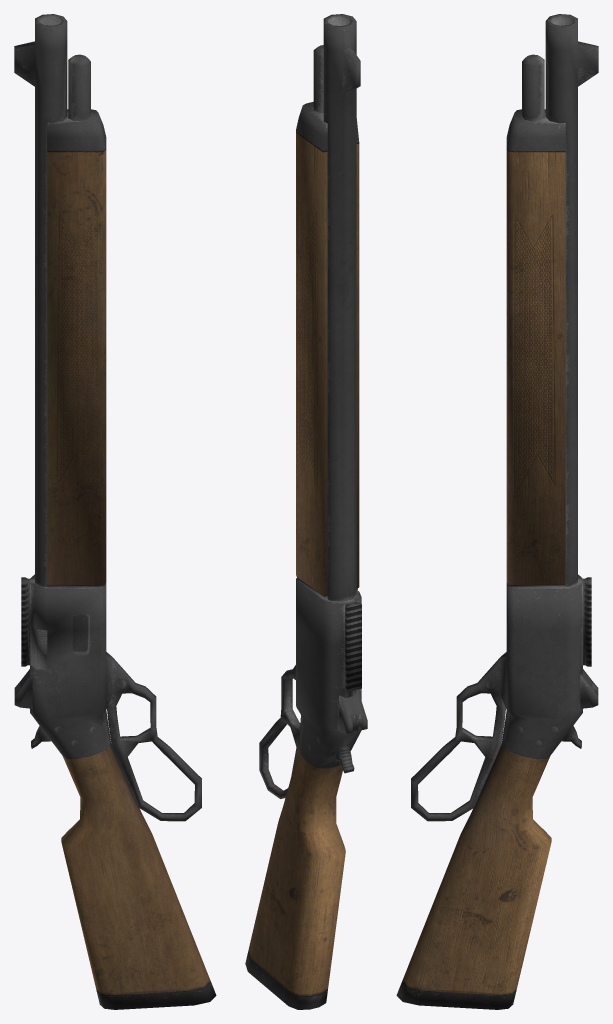
The model's file is TLOG_LeverActionRifle.fbx.
The picture shows the model from 3 angles, left to right: view 1: azimuth 90°, elevation 25°; view 2: azimuth 210°, elevation 25°; view 3: azimuth 270°, elevation 25°; orthographic projection. The views are drawn at different scales.
Visible parts, largest first — view 1: Cube; view 2: Cube; view 3: Cube.
Boxes of the visible parts, x1,y1,x2,y2 form: Cube: (14,14,216,1009); Cube: (245,14,367,1009); Cube: (396,14,598,1009).
Size of the model in its own units: 0.0195 by 0.52 by 0.097.
